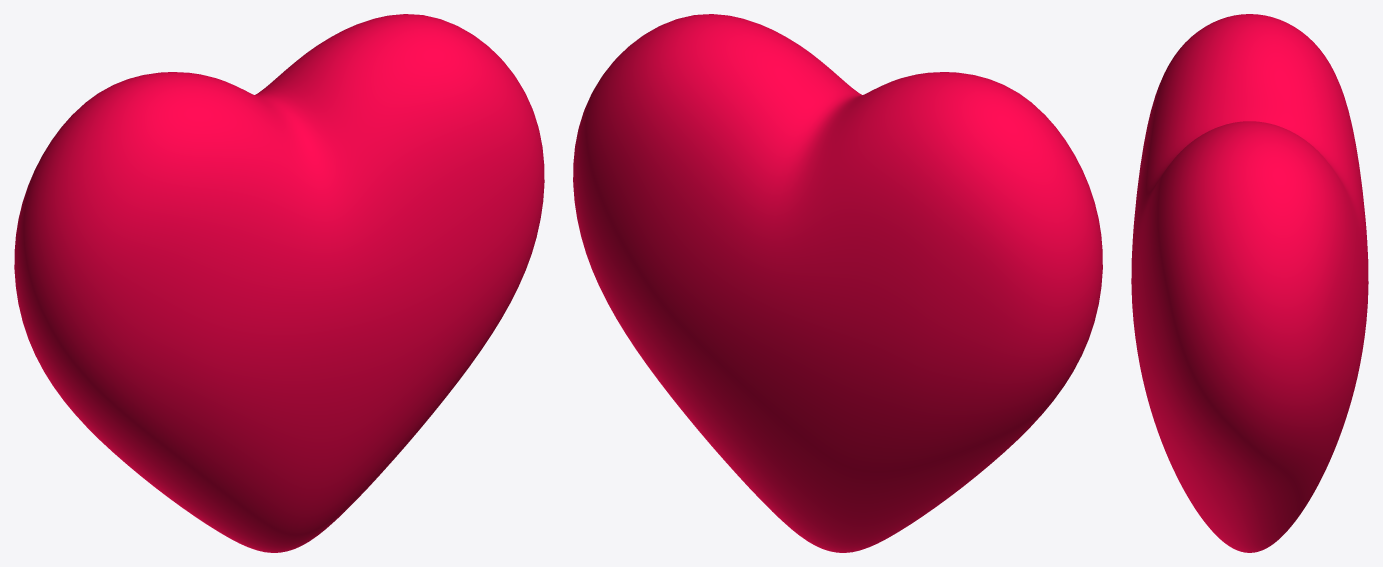
The model's file is heart2.glb.
3 renders of one model, left to right at view 1: azimuth 30°, elevation 25°; view 2: azimuth 150°, elevation 25°; view 3: azimuth 270°, elevation 25°, orthographic. The views are drawn at different scales.
Visible parts, largest first — view 1: Heart; view 2: Heart; view 3: Heart.
Part boxes in pixels (x1,y1,x2,y2): Heart: [14, 14, 544, 552]; Heart: [573, 14, 1102, 552]; Heart: [1131, 14, 1368, 552].
Size of the model in its own units: 1.06 by 0.9957 by 0.4571.
